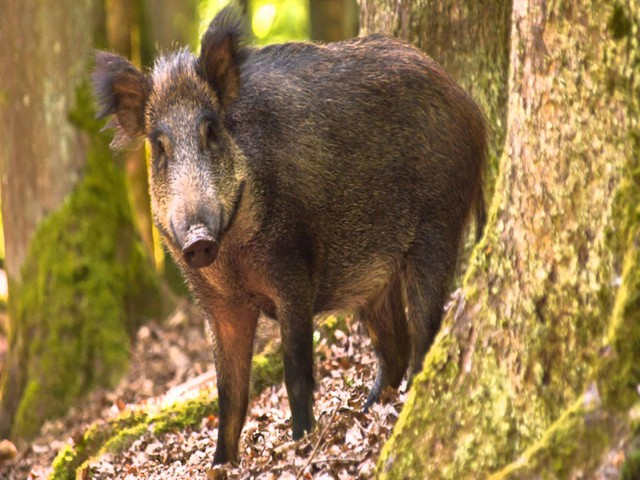Pig: (93, 10, 475, 378)
